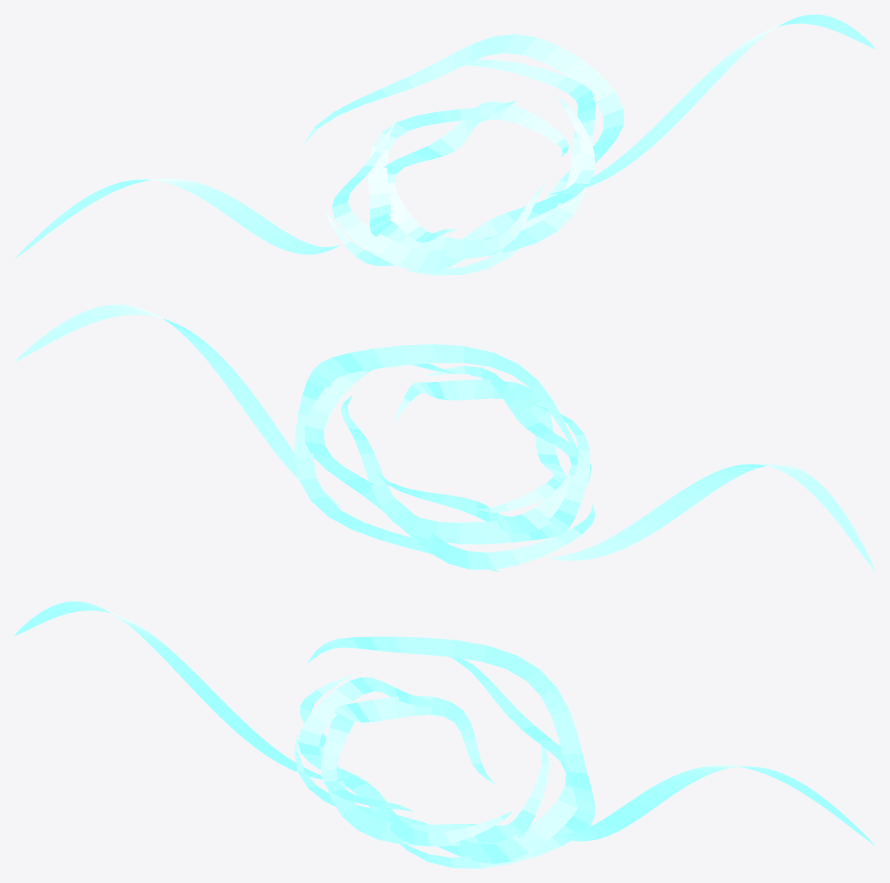
File: charge.glb
3 renders of one model, top to bottom at view 1: azimuth 30°, elevation 25°; view 2: azimuth 150°, elevation 25°; view 3: azimuth 330°, elevation 25°, orthographic.
Parts seen in each view (by area): view 1: charge; view 2: charge; view 3: charge.
Boxes of the visible parts, box(x1,y1,x2,y2) form: charge: box(14, 14, 875, 275); charge: box(14, 304, 875, 572); charge: box(14, 601, 874, 868).
Bounding box in the file's own units: 1.24 × 0.3032 × 0.1099.
